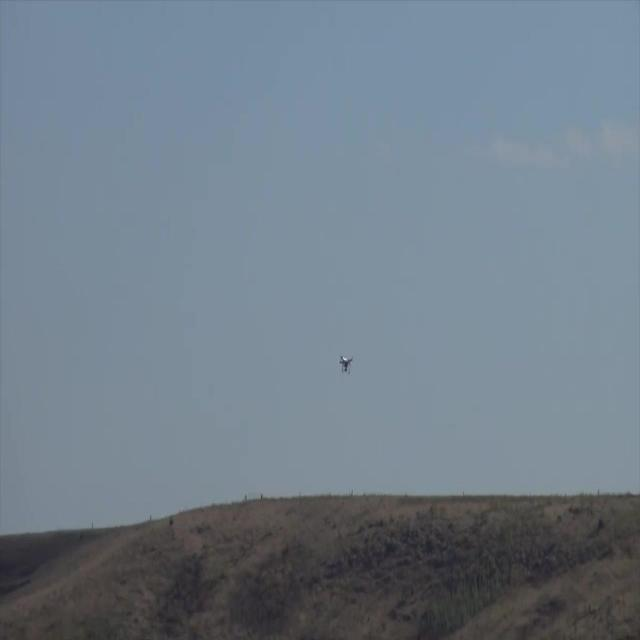UAV: (338, 356, 354, 375)
